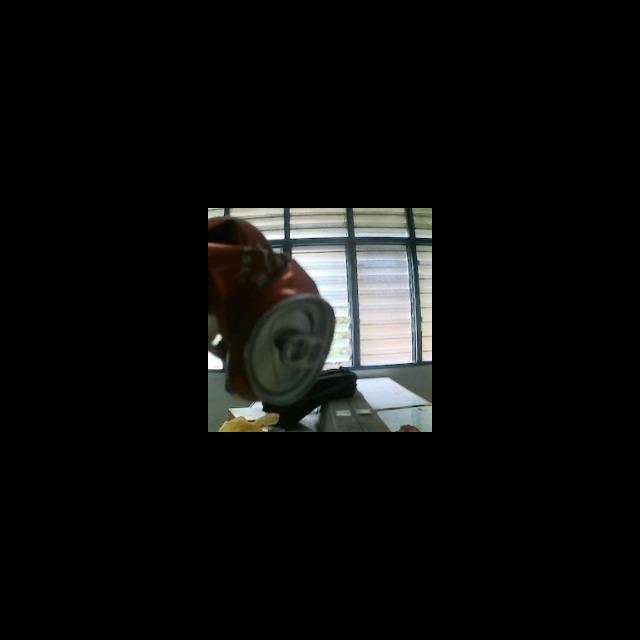metal: (208, 208, 343, 414)
